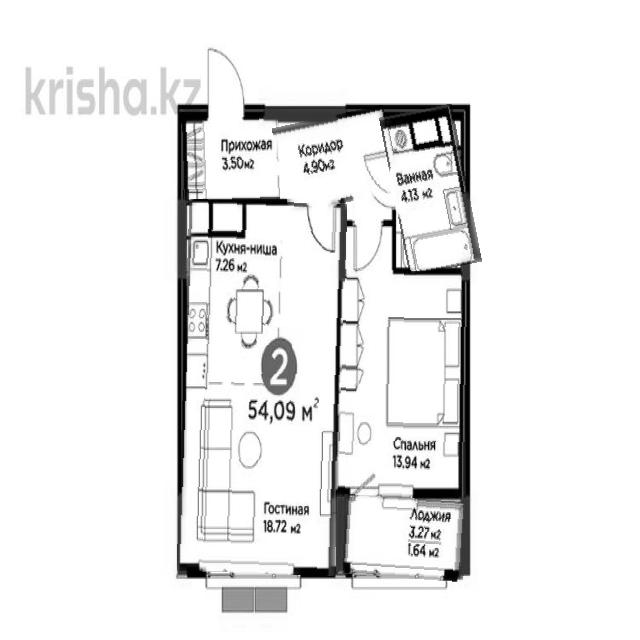balcony: (340, 496, 467, 580)
bathroom: (386, 106, 476, 273)
hallway: (276, 111, 398, 209), (182, 117, 280, 203)
living_room: (337, 270, 469, 498)
studio: (180, 201, 344, 575)
